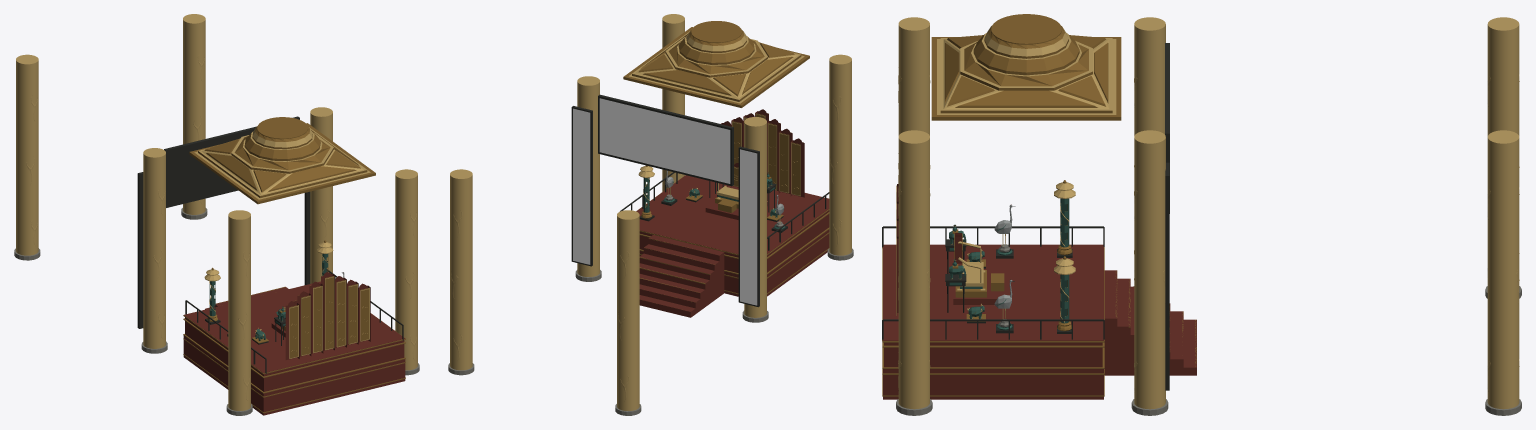
File: taihe-caisson-9067bcce8b91.glb
The picture shows the model from 3 angles, left to right: view 1: azimuth 30°, elevation 25°; view 2: azimuth 150°, elevation 25°; view 3: azimuth 270°, elevation 25°; orthographic projection. The views are drawn at different scales.
Parts seen in each view (by area): view 1: merged_taihe_gold, merged_taihe_lacquer, merged_taihe_dark_gold, merged_taihe_dark_wood, merged_taihe_stone, throne_blue_waist; view 2: merged_taihe_gold, merged_taihe_lacquer, merged_taihe_glyph_atlas, merged_taihe_dark_gold, merged_taihe_dark_wood, merged_taihe_stone, throne_blue_waist; view 3: merged_taihe_gold, merged_taihe_lacquer, merged_taihe_dark_gold, merged_taihe_dark_wood, throne_blue_waist, merged_taihe_stone.
Boxes of the visible parts, x1,y1,x2,y2 form: merged_taihe_gold: [16, 14, 417, 410]; merged_taihe_lacquer: [183, 272, 405, 415]; merged_taihe_dark_gold: [183, 117, 405, 413]; merged_taihe_dark_wood: [137, 116, 403, 373]; merged_taihe_stone: [14, 208, 419, 415]; throne_blue_waist: [209, 254, 328, 340]; merged_taihe_gold: [450, 14, 851, 410]; merged_taihe_lacquer: [636, 109, 829, 317]; merged_taihe_glyph_atlas: [573, 98, 757, 305]; merged_taihe_dark_gold: [623, 21, 829, 310]; merged_taihe_dark_wood: [571, 94, 829, 307]; merged_taihe_stone: [448, 194, 853, 415]; throne_blue_waist: [643, 173, 785, 229]; merged_taihe_gold: [896, 17, 1519, 409]; merged_taihe_lacquer: [883, 184, 1196, 399]; merged_taihe_dark_gold: [882, 14, 1196, 396]; merged_taihe_dark_wood: [882, 43, 1169, 390]; throne_blue_waist: [949, 198, 1069, 330]; merged_taihe_stone: [896, 244, 1521, 415].
Size of the model in its own units: 9.63 by 11.27 by 20.25.
